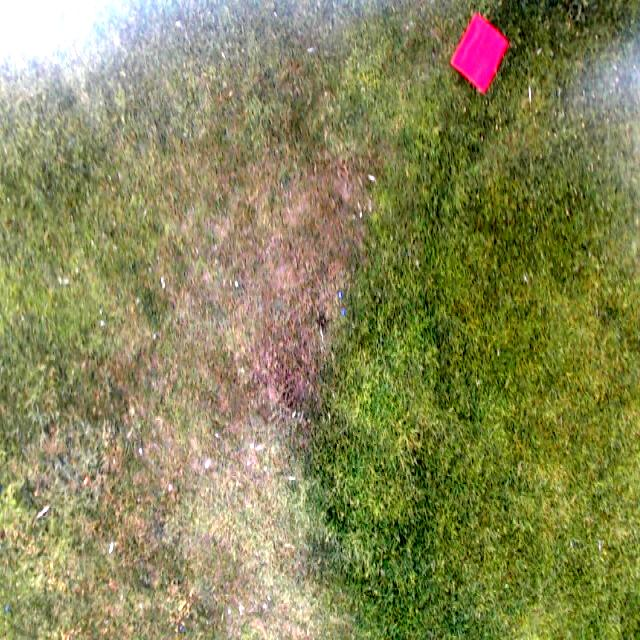blue_hexagon: (452, 16, 504, 85)
